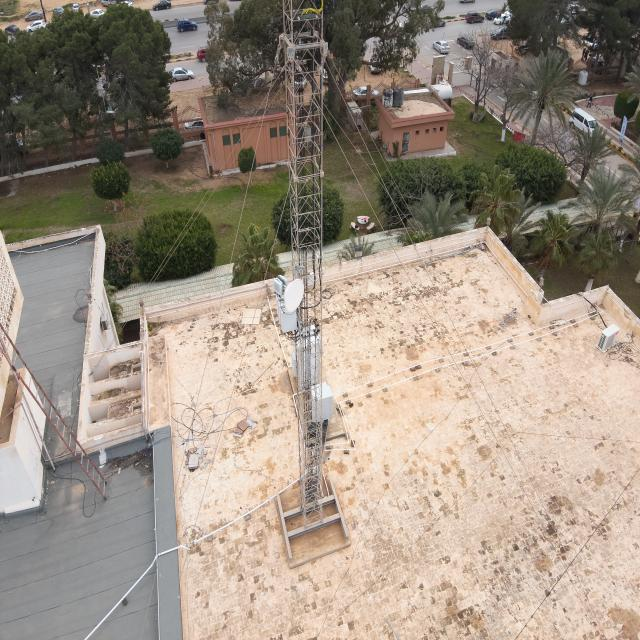microware-dish: (272, 274, 306, 314)
power-box: (272, 294, 297, 334)
